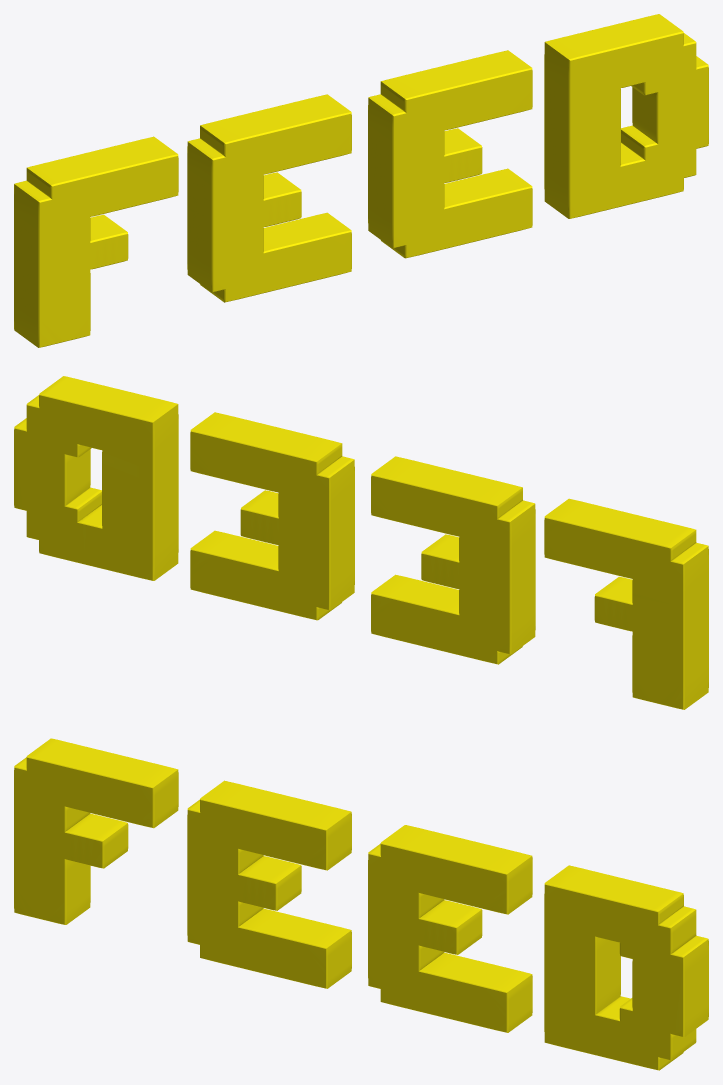
The model's file is feed_font.glb.
3 views of the same model, one above another, from view 1: azimuth 30°, elevation 25°; view 2: azimuth 150°, elevation 25°; view 3: azimuth 330°, elevation 25° (orthographic).
Parts seen in each view (by area): view 1: Object_7, Object_9.001, Object_9, Object_11; view 2: Object_7, Object_9.001, Object_9, Object_11; view 3: Object_7, Object_9, Object_9.001, Object_11.
Boxes of the visible parts, bbox=[...] form: Object_7: bbox=[544, 14, 708, 218]; Object_9.001: bbox=[368, 50, 532, 258]; Object_9: bbox=[187, 94, 351, 302]; Object_11: bbox=[14, 136, 178, 347]; Object_7: bbox=[14, 376, 178, 580]; Object_9.001: bbox=[190, 412, 354, 620]; Object_9: bbox=[371, 456, 535, 664]; Object_11: bbox=[544, 498, 708, 709]; Object_7: bbox=[544, 865, 708, 1070]; Object_9: bbox=[187, 780, 351, 988]; Object_9.001: bbox=[368, 825, 532, 1032]; Object_11: bbox=[14, 738, 178, 924].
Bounding box in the file's own units: 0.7799 × 0.1788 × 0.0515.
